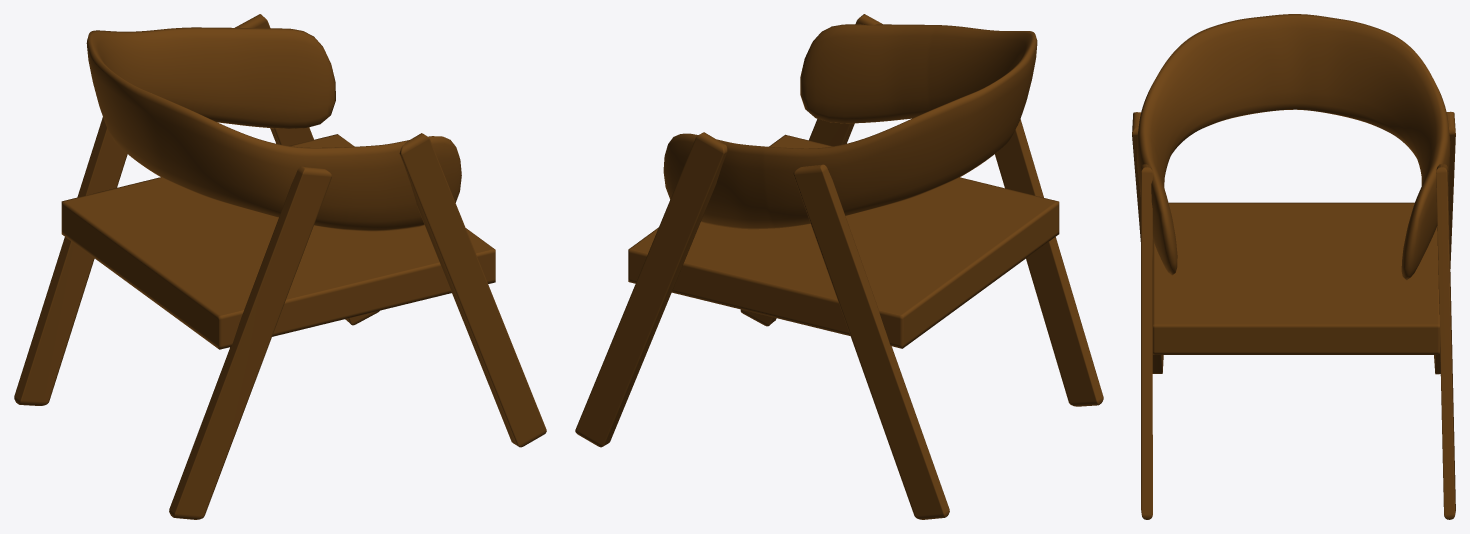
The model's file is Chair.fbx.
3 renders of one model, left to right at view 1: azimuth 30°, elevation 25°; view 2: azimuth 150°, elevation 25°; view 3: azimuth 270°, elevation 25°, orthographic. The views are drawn at different scales.
Visible parts, largest first — view 1: Chair; view 2: Chair; view 3: Chair.
Part boxes in pixels (left/top/right/bottom): Chair: left=14, top=14, right=546, bottom=519; Chair: left=575, top=14, right=1103, bottom=519; Chair: left=1132, top=14, right=1455, bottom=519.
Size of the model in its own units: 103 by 105 by 86.46.
